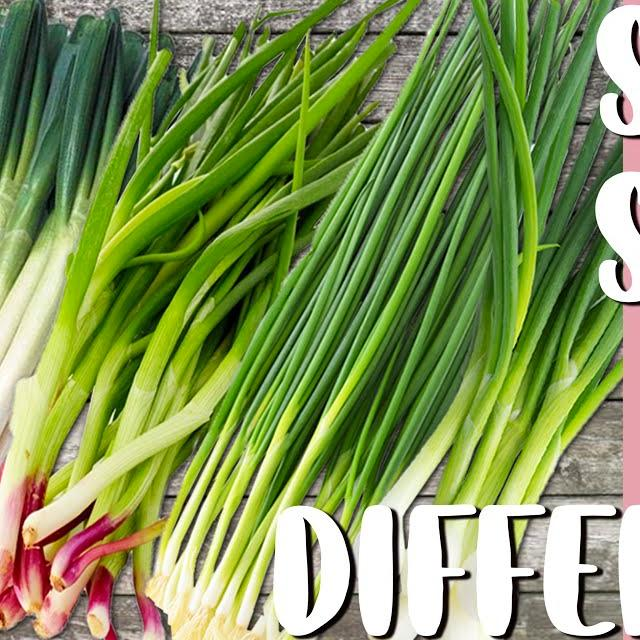green_onion: (0, 0, 415, 640), (148, 0, 528, 640)
